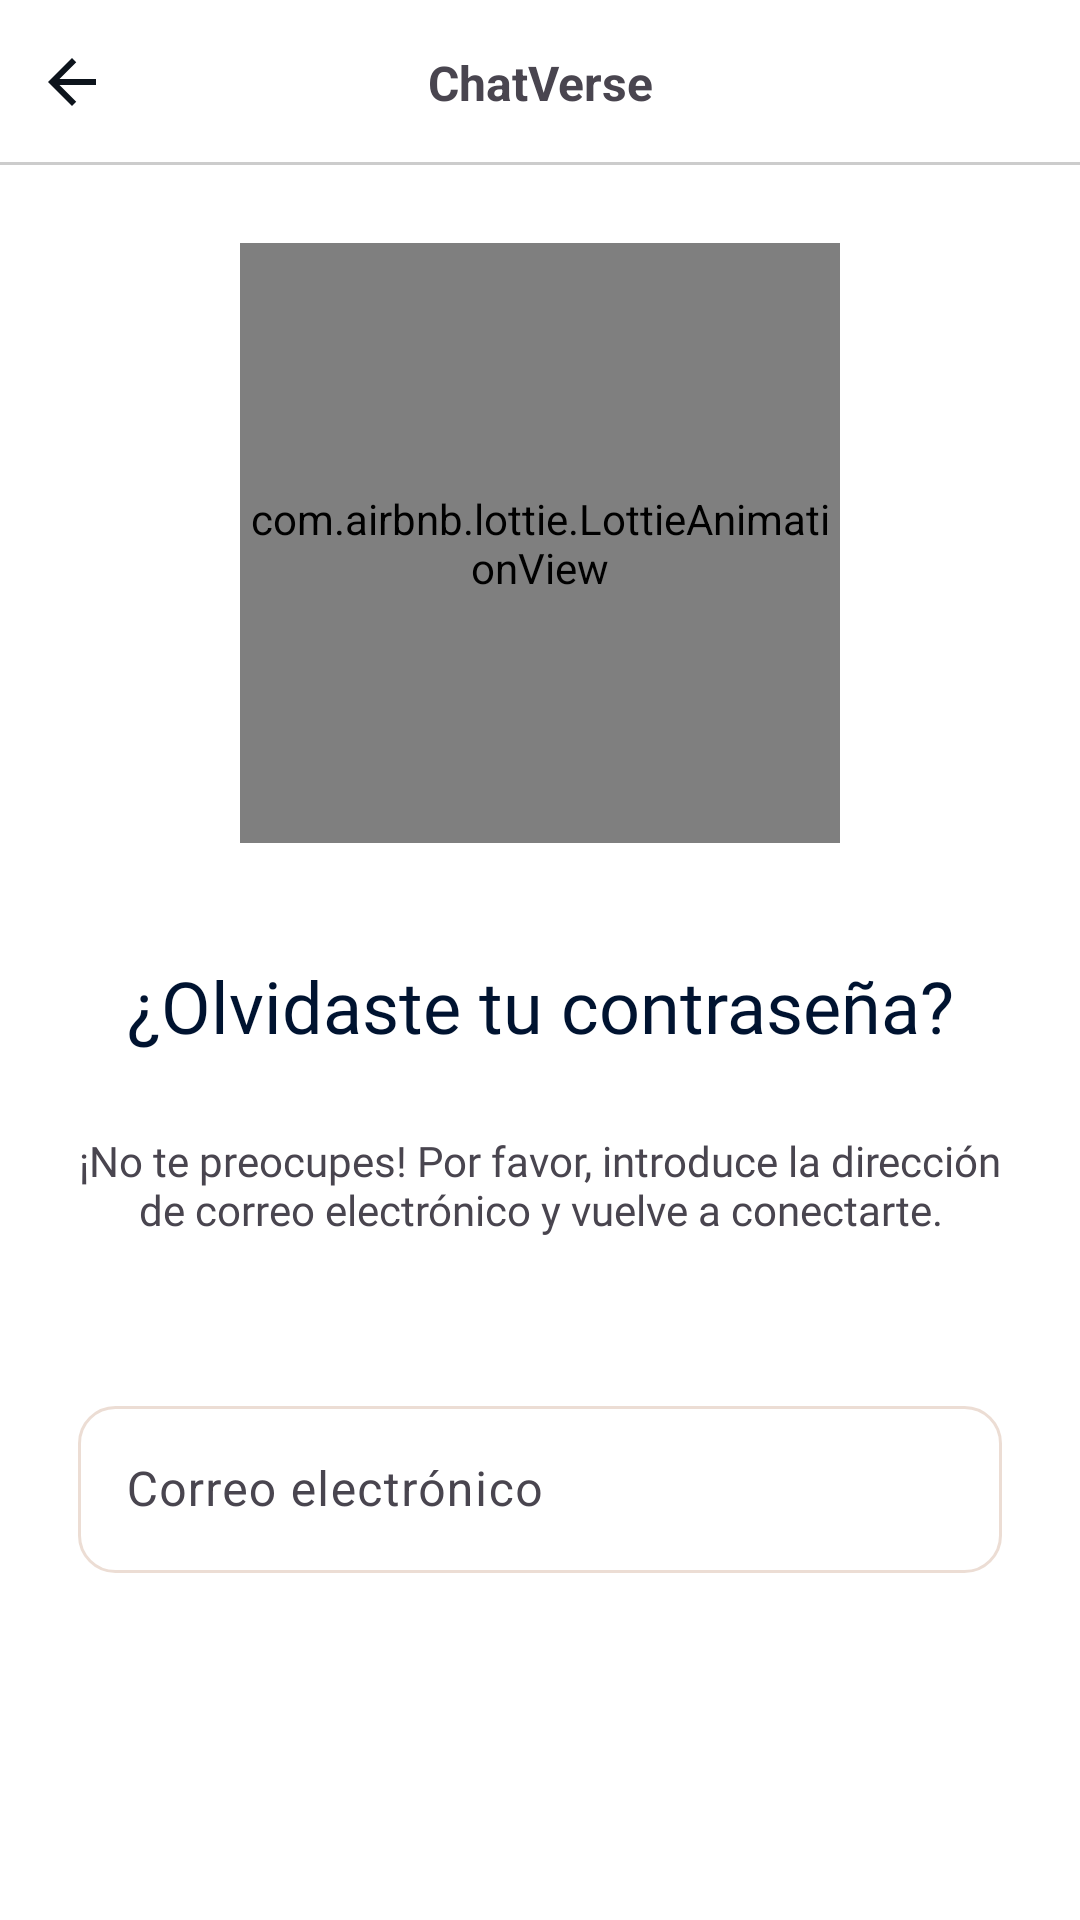

Locate icon controls on the screen. Image size 1080 × 1920, boxes as (x1, y1, x2, y2).
Regresar: (48, 58, 96, 106)
